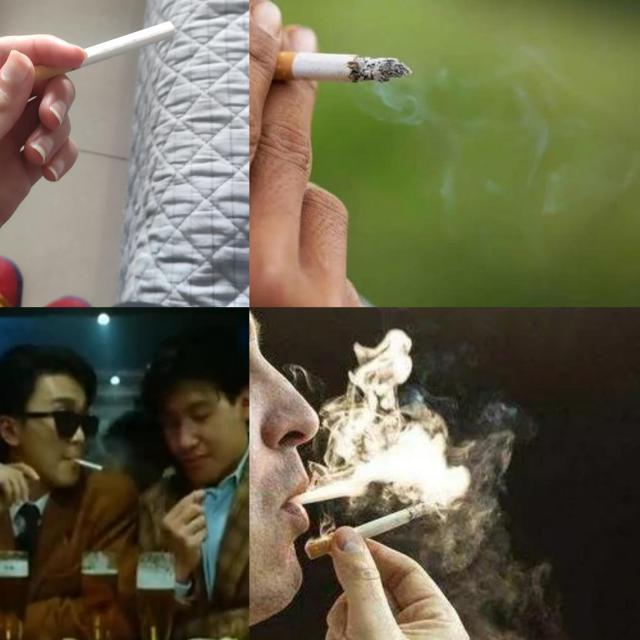smoke: (24, 20, 177, 84), (308, 506, 421, 560), (249, 47, 412, 83), (66, 448, 104, 474)
